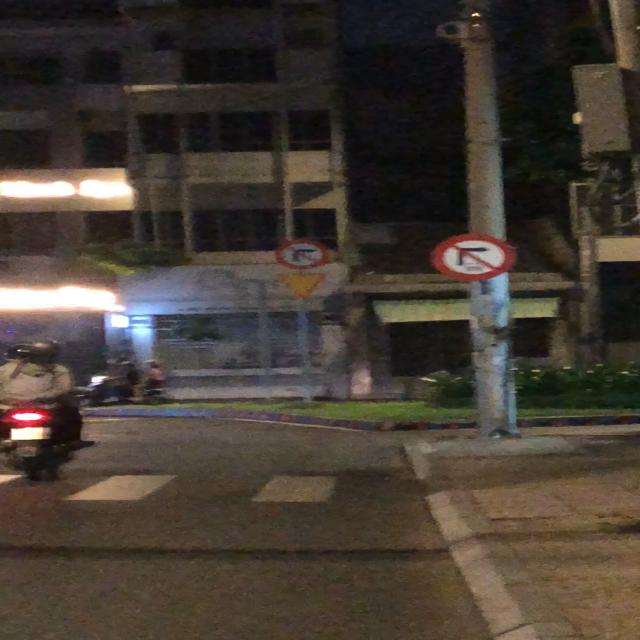Bien bao cam re phai: (276, 238, 334, 270)
Bien bao cam xe o to re phai: (425, 232, 514, 280)
Bien bao giao nhau voi duong uu tien: (275, 269, 331, 298)
